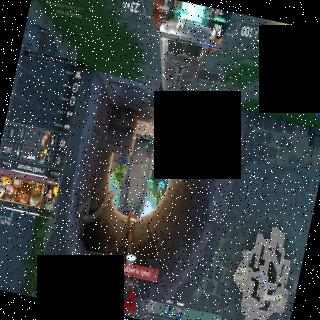ENEMY-BODY: (160, 158, 163, 166)
ENEMY-HEAD: (160, 163, 162, 165)
